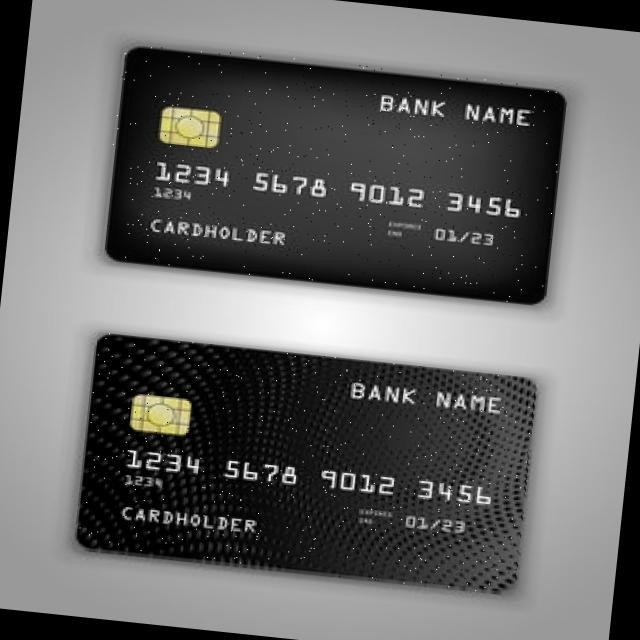payment_card: (74, 332, 537, 595), (103, 44, 567, 305)
